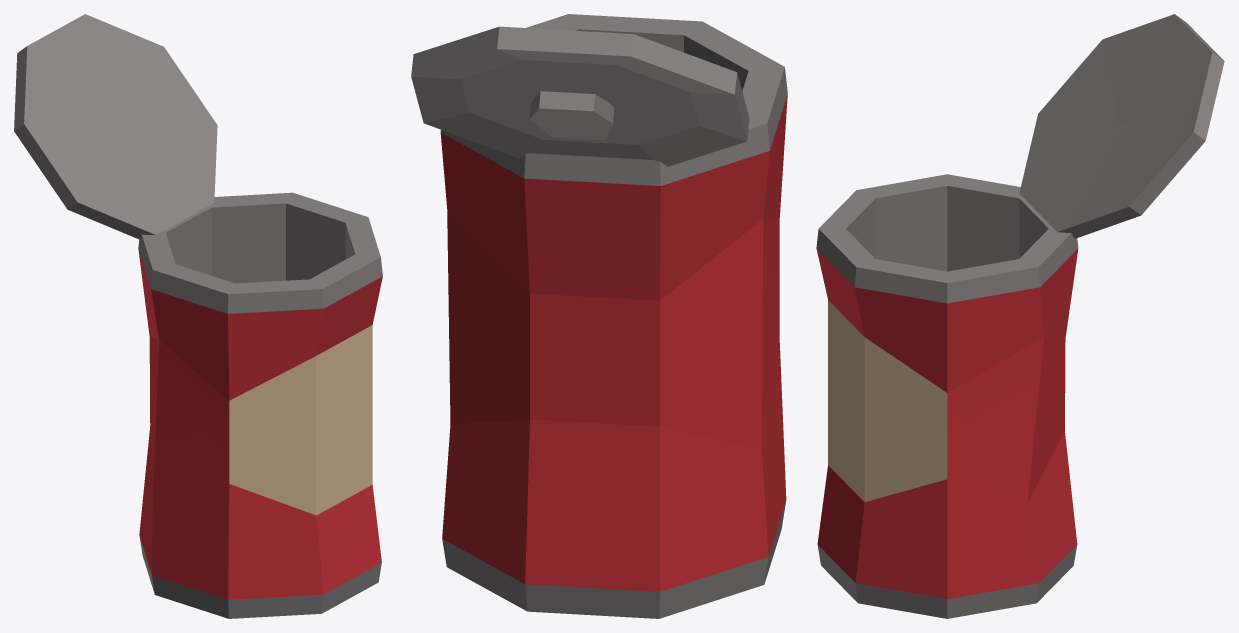
The model's file is food_can-beans-open.fbx.
3 views of the same model, side by side, from view 1: azimuth 30°, elevation 25°; view 2: azimuth 150°, elevation 25°; view 3: azimuth 270°, elevation 25° (orthographic). The views are drawn at different scales.
Visible parts, largest first — view 1: food_can_beans_open; view 2: food_can_beans_open; view 3: food_can_beans_open.
Part boxes in pixels (x1=…): food_can_beans_open: x1=14, y1=14, x2=382, y2=618; food_can_beans_open: x1=411, y1=14, x2=787, y2=618; food_can_beans_open: x1=816, y1=14, x2=1224, y2=618.
Bounding box in the file's own units: 122 × 200 × 151.
